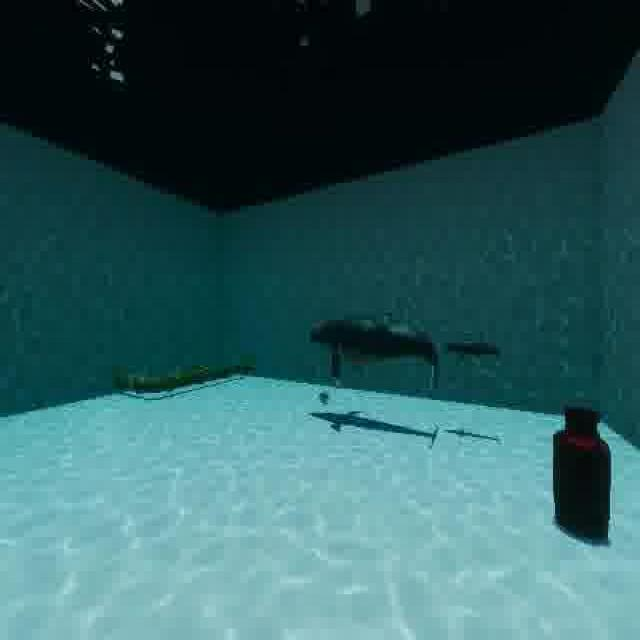Cylinder: (546, 394, 626, 556)
Pipe: (107, 344, 261, 400)
Whale: (301, 293, 444, 405), (437, 320, 506, 370)
